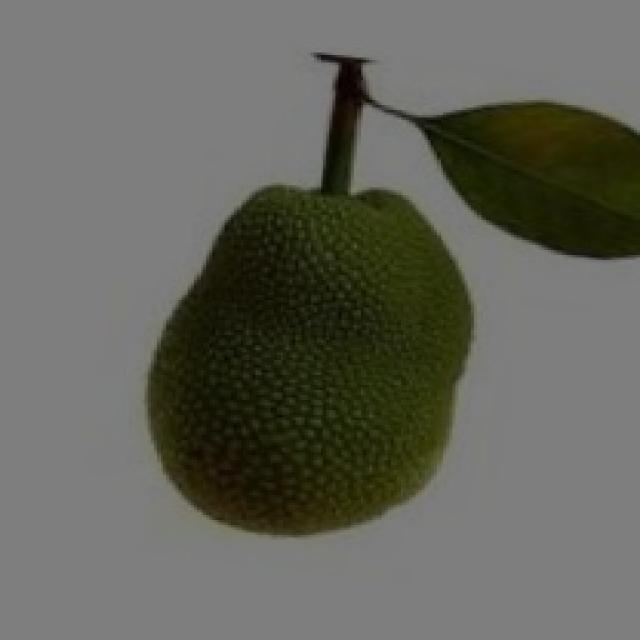Fruit: (126, 162, 505, 550)
